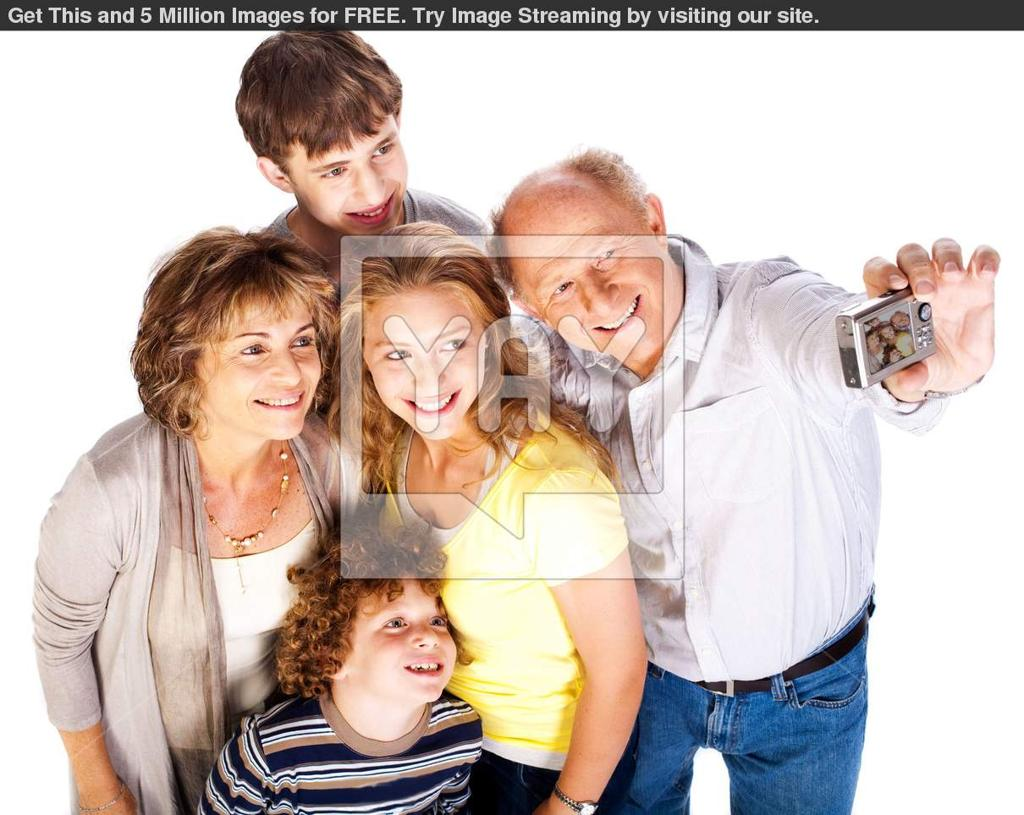face: (504, 198, 660, 366), (210, 282, 318, 440), (368, 288, 476, 444), (300, 96, 406, 240), (362, 587, 461, 701)
